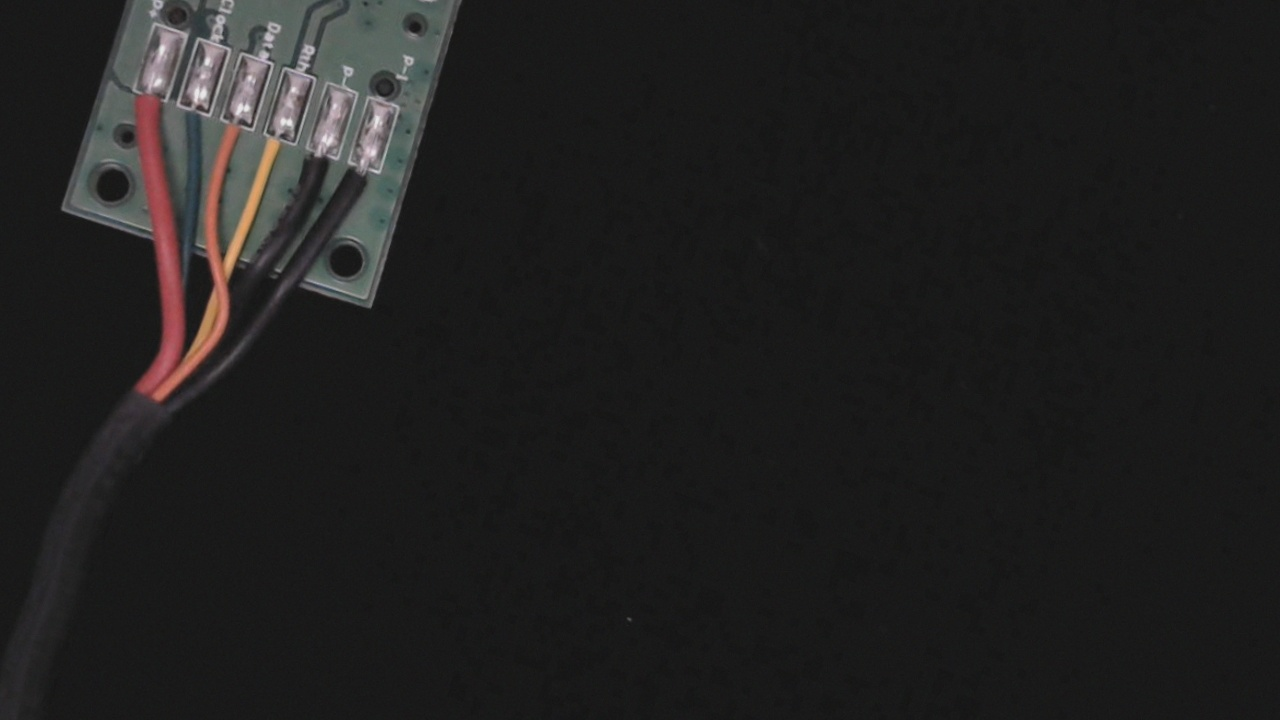Black: (283, 128, 344, 218)
Black1: (331, 143, 389, 226)
Green: (156, 83, 217, 170)
Orange: (201, 100, 261, 188)
Red: (111, 75, 172, 162)
Yellow: (242, 111, 304, 202)
